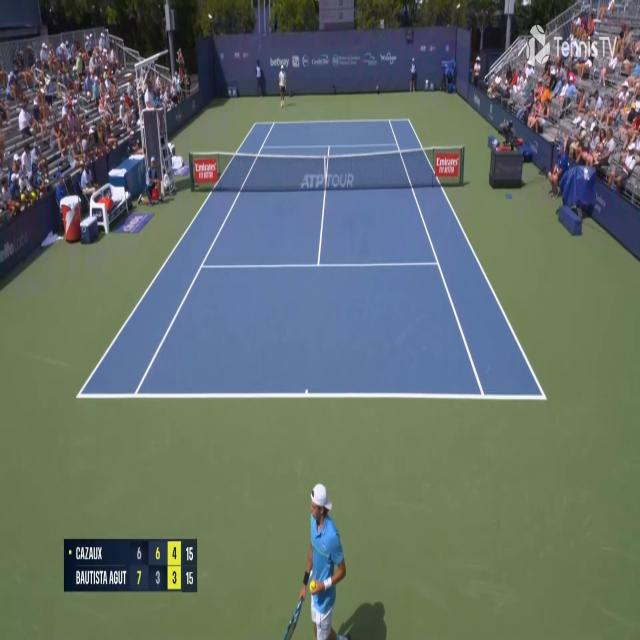tennis-player: (280, 484, 352, 640), (277, 65, 288, 109)
